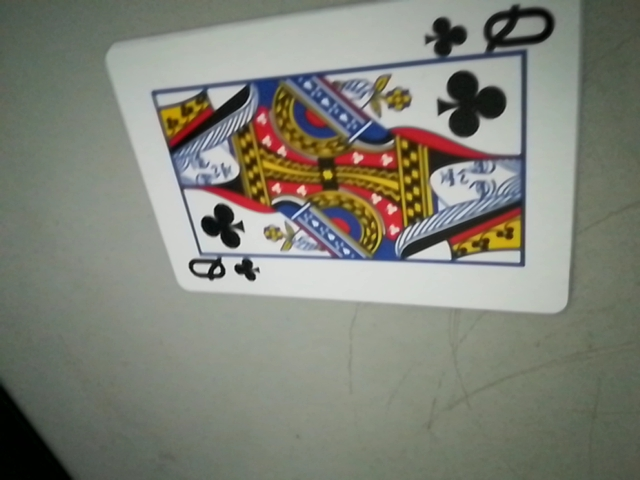mh q: (426, 3, 556, 59), (179, 248, 263, 294)
